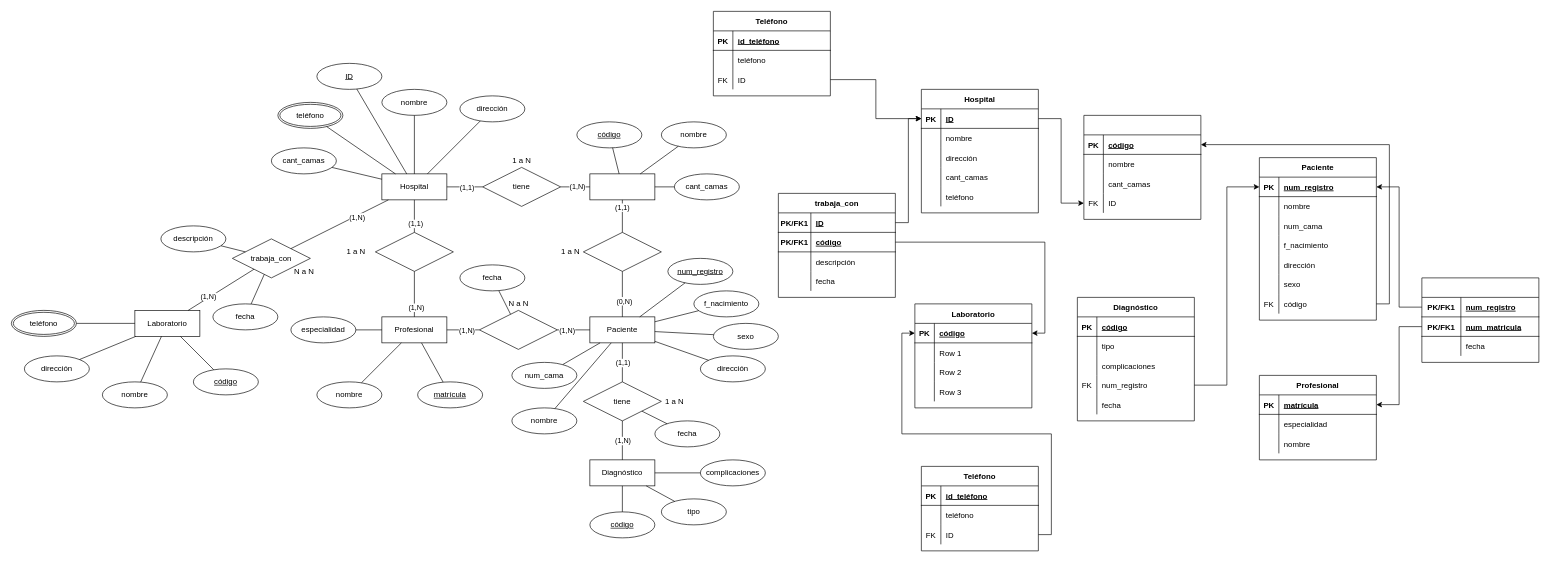
This 1550x562 diagram has some shape labels left out. Each missing label, with the box of its shape:
atiende: (479, 310, 557, 349)
es_atendido: (1421, 277, 1539, 362)
Sala: (589, 173, 655, 200)
Salas: (1083, 115, 1201, 219)
se_interna: (583, 232, 661, 271)
trabaja: (375, 232, 453, 271)
